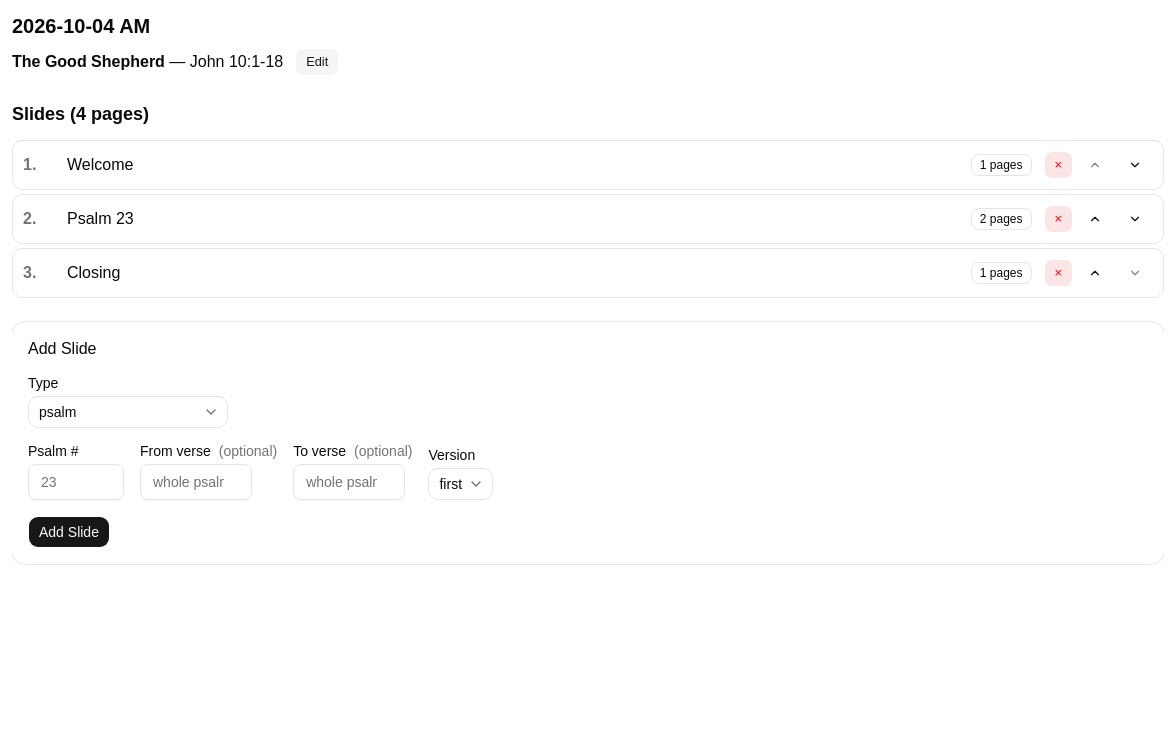
Test case: SlideEditor › edits the sermon title and reference
Click the button "Edit": (317, 62) [295,48,339,76]
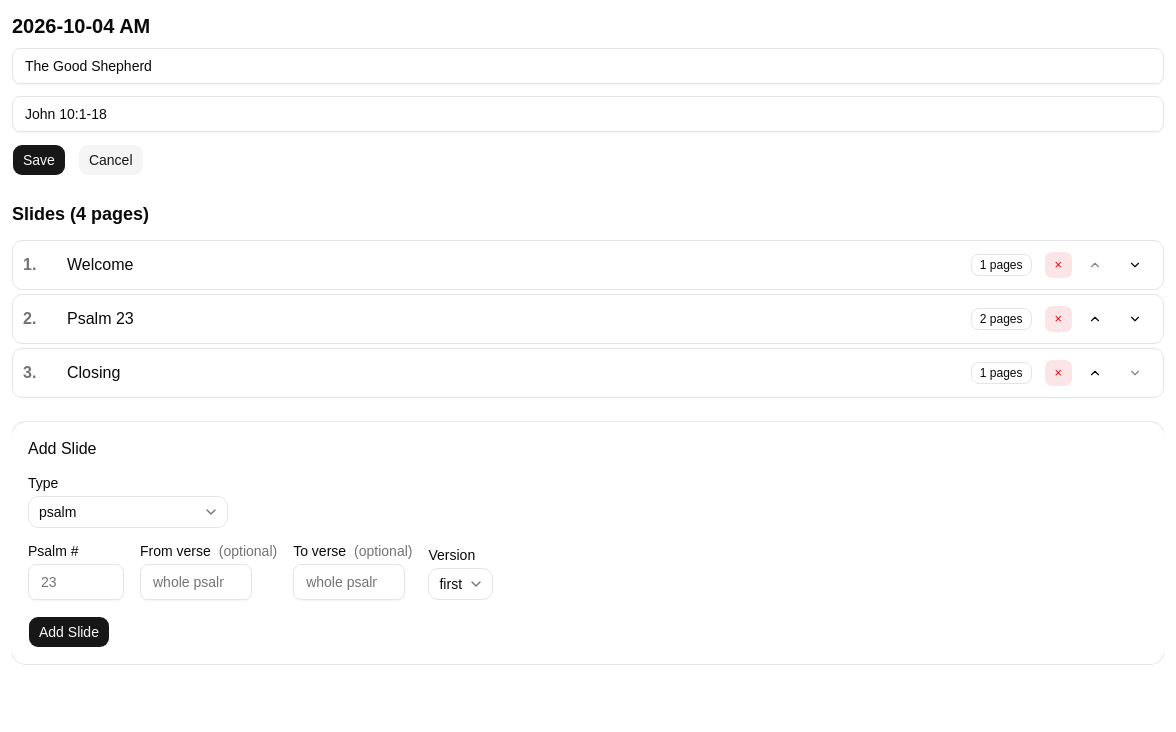
Replace the text in the 1st field with placeholder "Sermon title" with "New Title": (588, 66) [12,48,1164,84]
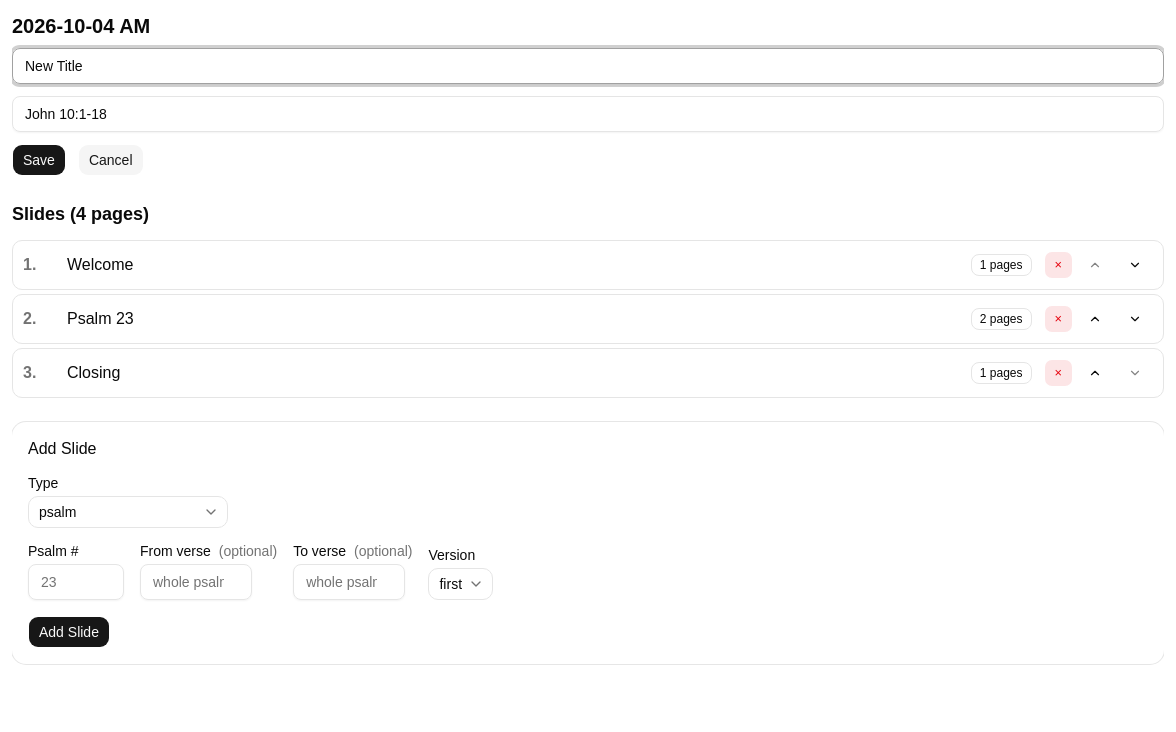
Replace the text in the 2nd field with placeholder "Reference" with "Ps 1": (588, 114) [12,96,1164,132]
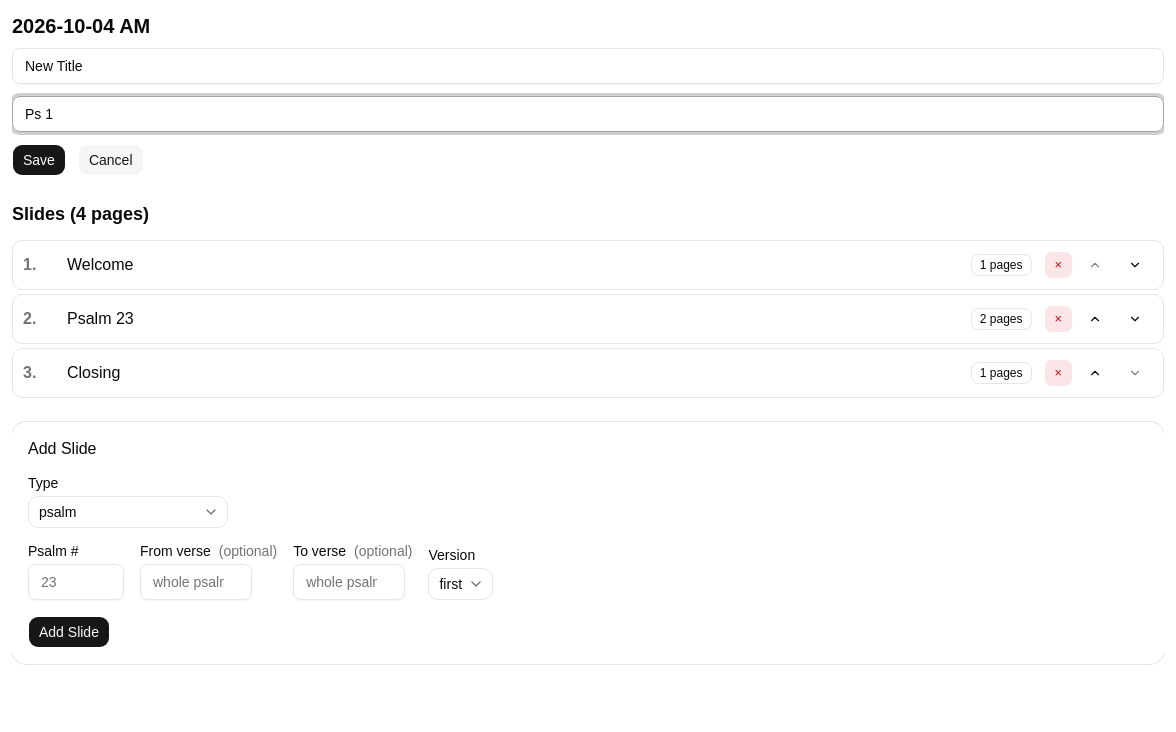
Click the button "Save": (39, 160) [12,144,66,176]
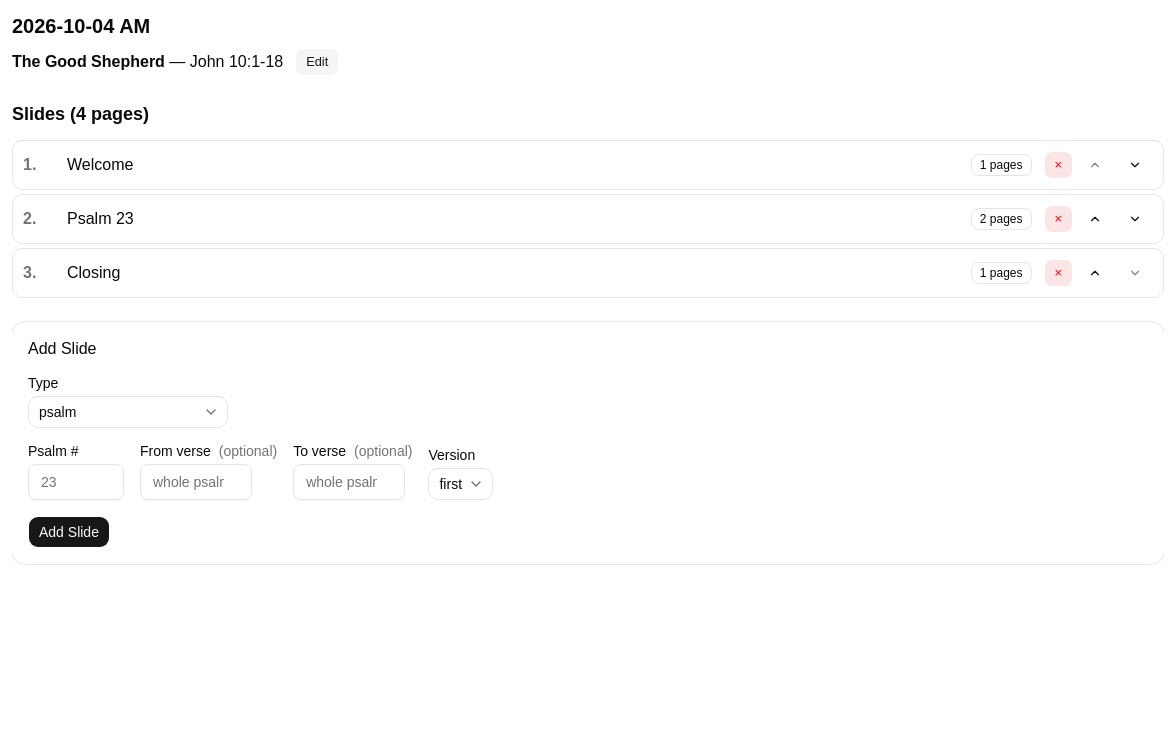
Expected: the button "Save" is gone
